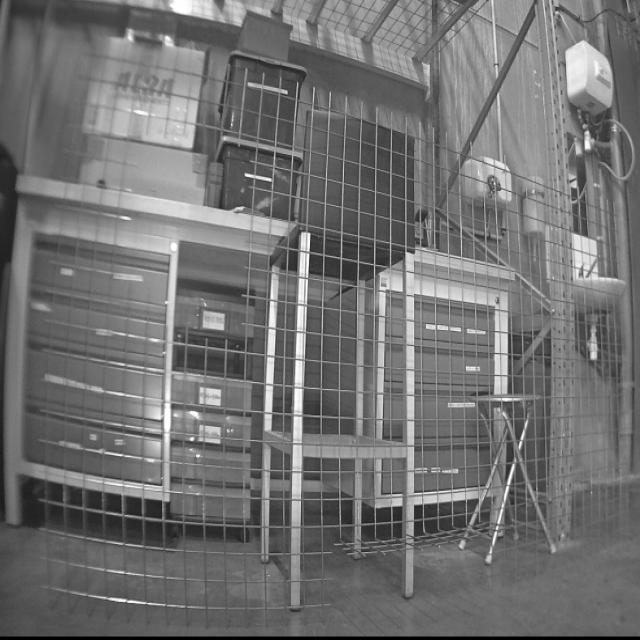fence line: (118, 123, 252, 318), (339, 526, 497, 605)
